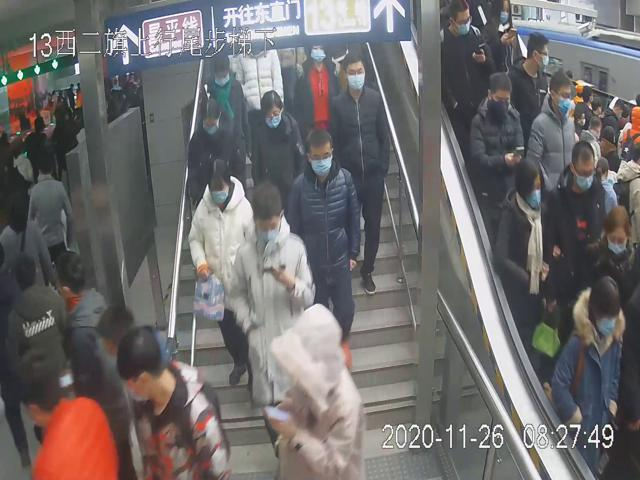person: (228, 176, 316, 472), (283, 128, 362, 377), (189, 154, 261, 389), (326, 48, 393, 300), (492, 156, 567, 331), (184, 95, 247, 239), (467, 71, 524, 225), (439, 1, 493, 146), (245, 86, 306, 207), (526, 69, 577, 199), (193, 50, 248, 156)
